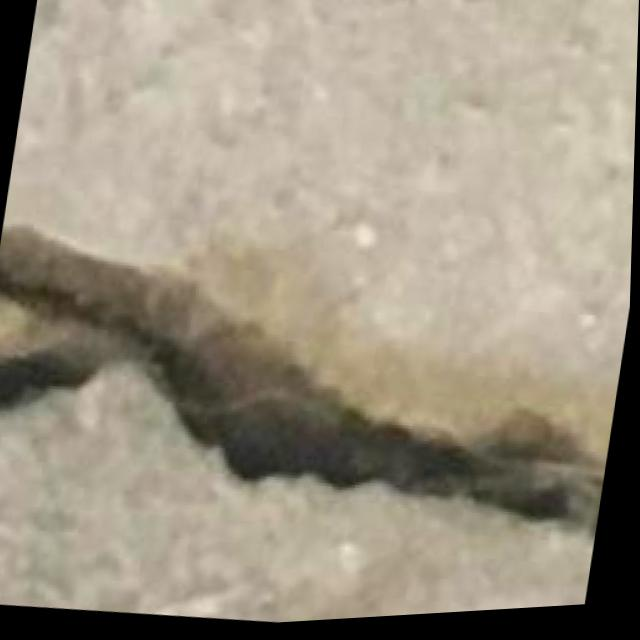Crack: (0, 178, 600, 587)
